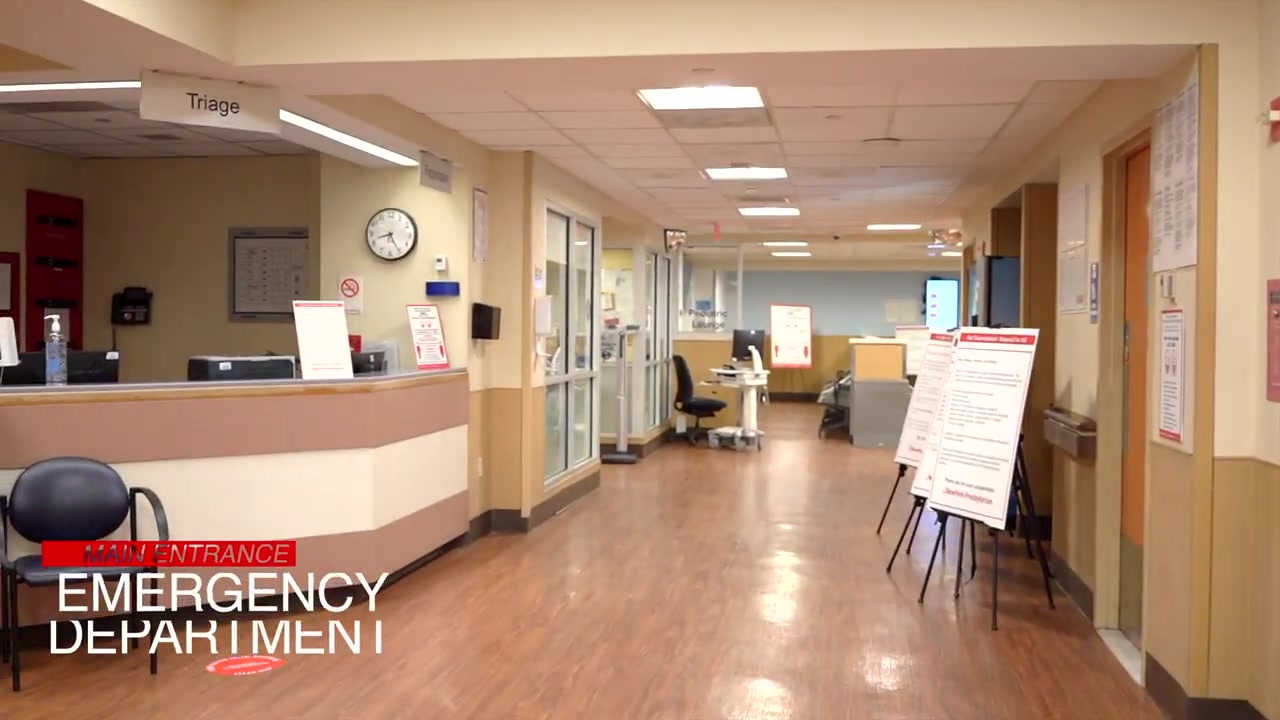chair: (1, 454, 170, 691), (663, 355, 728, 447)
computer: (23, 350, 120, 385), (731, 329, 766, 363)
counter: (1, 367, 470, 627), (844, 334, 908, 446)
dispenser: (44, 308, 72, 386), (534, 295, 555, 357)
hallway_assist_bar: (1041, 406, 1096, 461)
telephone: (111, 285, 153, 325)
